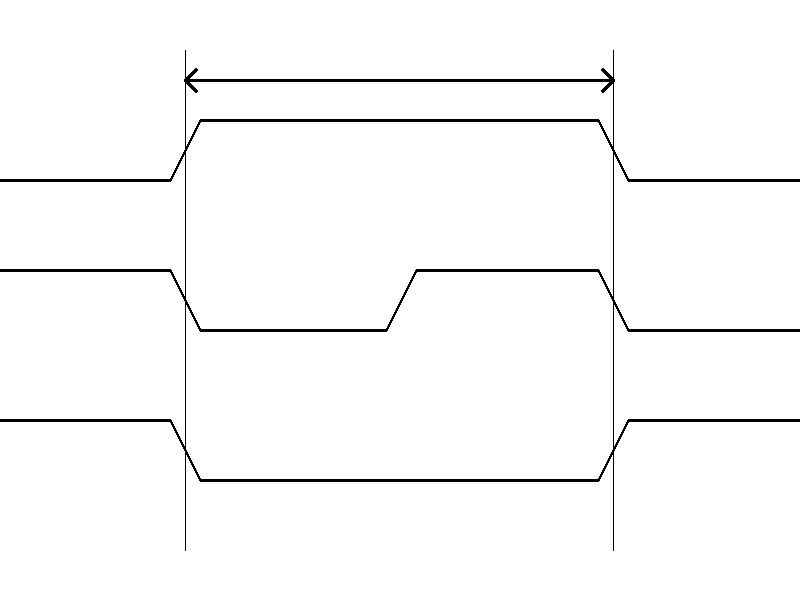double_arrow: (185, 65, 613, 95)
